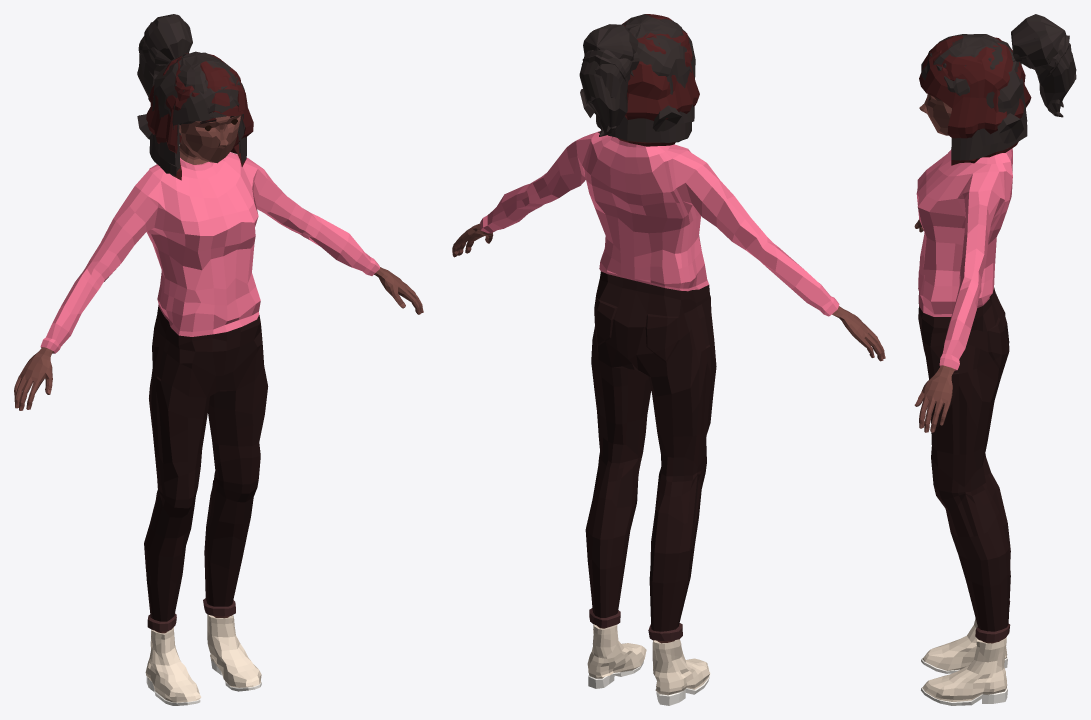
The model's file is character_NPC_F_04.fbx.
3 views of the same model, side by side, from view 1: azimuth 30°, elevation 25°; view 2: azimuth 150°, elevation 25°; view 3: azimuth 270°, elevation 25° (orthographic). The views are drawn at different scales.
Parts seen in each view (by area): view 1: charaBody_npcF_V04_geo, charaHair_NPC_F_V02_geo, charaHair_NPC_F_V03_geo, charaHair_NPC_F_V08_geo, charaHair_NPC_F_V09_geo, charaHair_NPC_F_V07_geo, charaHair_NPC_F_V01_geo, charaHair_NPC_F_V10_geo, charaHair_NPC_F_V05_geo; view 2: charaBody_npcF_V04_geo, charaHair_NPC_F_V03_geo, charaHair_NPC_F_V05_geo, charaHair_NPC_F_V02_geo, charaHair_NPC_F_V01_geo, charaHair_NPC_F_V08_geo, charaHair_NPC_F_V10_geo, charaHair_NPC_F_V04_geo; view 3: charaBody_npcF_V04_geo, charaHair_NPC_F_V03_geo, charaHair_NPC_F_V08_geo, charaHair_NPC_F_V02_geo, charaHair_NPC_F_V05_geo, charaHair_NPC_F_V10_geo, charaHair_NPC_F_V01_geo, charaHair_NPC_F_V09_geo, charaHair_NPC_F_V07_geo, charaHair_NPC_F_V06_geo.
Boxes of the visible parts, left/top/right/bottom form: charaBody_npcF_V04_geo: left=14, top=115, right=423, bottom=705; charaHair_NPC_F_V02_geo: left=152, top=53, right=244, bottom=168; charaHair_NPC_F_V03_geo: left=146, top=53, right=253, bottom=180; charaHair_NPC_F_V08_geo: left=144, top=14, right=232, bottom=133; charaHair_NPC_F_V09_geo: left=171, top=57, right=243, bottom=116; charaHair_NPC_F_V07_geo: left=177, top=26, right=239, bottom=134; charaHair_NPC_F_V01_geo: left=149, top=89, right=246, bottom=177; charaHair_NPC_F_V10_geo: left=137, top=51, right=236, bottom=139; charaHair_NPC_F_V05_geo: left=137, top=22, right=165, bottom=97; charaBody_npcF_V04_geo: left=452, top=131, right=885, bottom=705; charaHair_NPC_F_V03_geo: left=601, top=25, right=699, bottom=146; charaHair_NPC_F_V05_geo: left=579, top=49, right=631, bottom=136; charaHair_NPC_F_V02_geo: left=594, top=20, right=695, bottom=123; charaHair_NPC_F_V01_geo: left=596, top=115, right=691, bottom=142; charaHair_NPC_F_V08_geo: left=583, top=24, right=680, bottom=72; charaHair_NPC_F_V10_geo: left=580, top=14, right=681, bottom=131; charaHair_NPC_F_V04_geo: left=595, top=57, right=632, bottom=132; charaBody_npcF_V04_geo: left=914, top=94, right=1012, bottom=705; charaHair_NPC_F_V03_geo: left=923, top=37, right=1031, bottom=165; charaHair_NPC_F_V08_geo: left=937, top=14, right=1064, bottom=70; charaHair_NPC_F_V02_geo: left=928, top=36, right=1027, bottom=145; charaHair_NPC_F_V05_geo: left=1035, top=31, right=1076, bottom=117; charaHair_NPC_F_V10_geo: left=921, top=34, right=1023, bottom=143; charaHair_NPC_F_V01_geo: left=926, top=53, right=1027, bottom=160; charaHair_NPC_F_V09_geo: left=919, top=35, right=1011, bottom=99; charaHair_NPC_F_V07_geo: left=921, top=34, right=1048, bottom=80; charaHair_NPC_F_V06_geo: left=981, top=35, right=1076, bottom=116.
Size of the model in its own units: 323 by 490 by 108.
